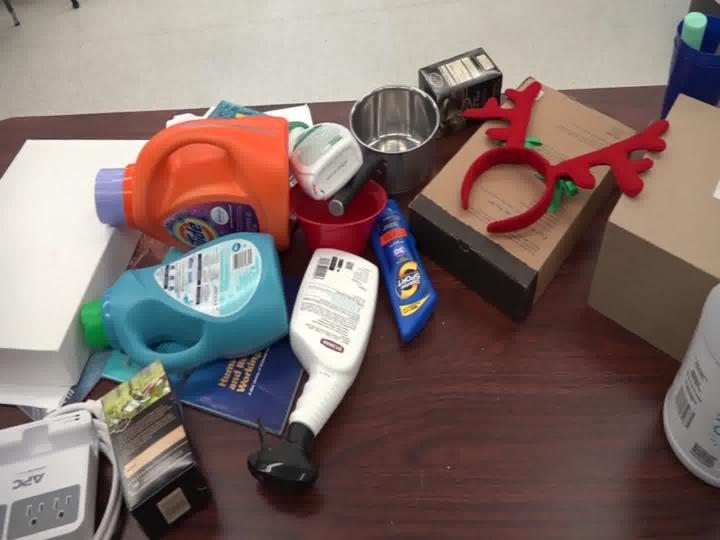tide: (88, 92, 302, 253)
